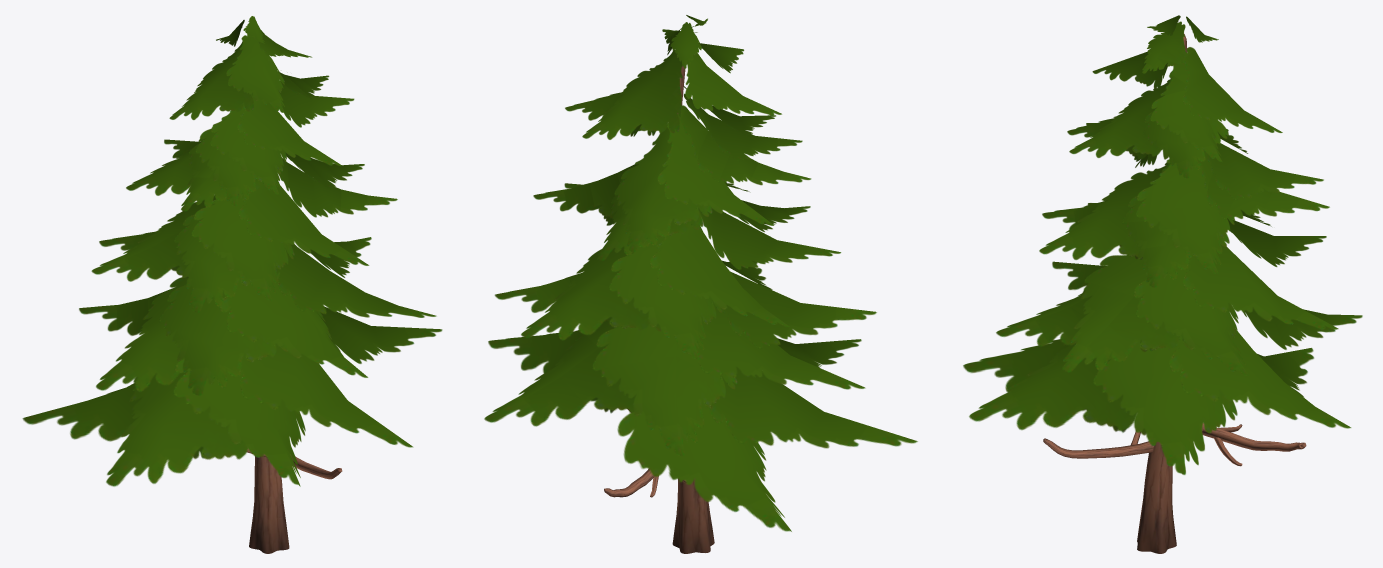
The model's file is nature-pine-247.glb.
The picture shows the model from 3 angles, left to right: view 1: azimuth 30°, elevation 25°; view 2: azimuth 150°, elevation 25°; view 3: azimuth 270°, elevation 25°; orthographic projection. The views are drawn at different scales.
Parts seen in each view (by area): view 1: Pine_2; view 2: Pine_2; view 3: Pine_2.
Boxes of the visible parts, bbox=[...] form: Pine_2: bbox=[22, 16, 442, 553]; Pine_2: bbox=[484, 15, 917, 553]; Pine_2: bbox=[963, 15, 1362, 553].
Size of the model in its own units: 5.73 by 7.38 by 5.22.
2 materials, 2 textured.
